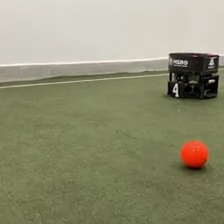ball: (180, 138, 209, 170)
robot: (164, 51, 221, 100)
